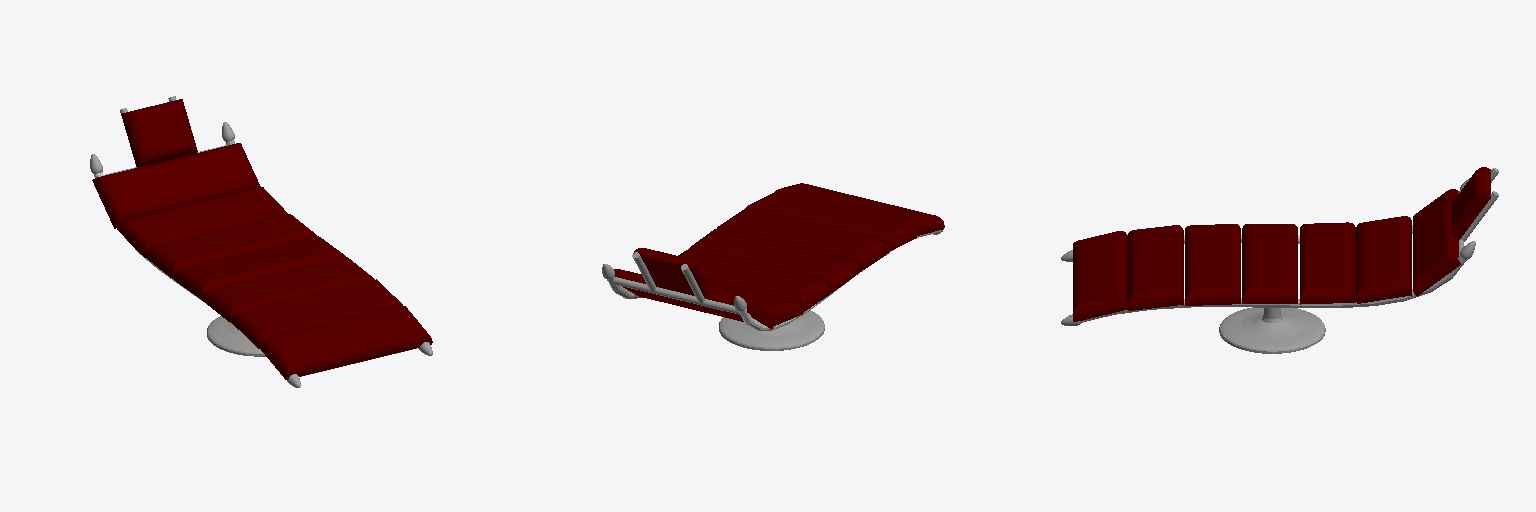
Rendered from lederliege.obj.
3 views of the same model, side by side, from view 1: azimuth 30°, elevation 25°; view 2: azimuth 150°, elevation 25°; view 3: azimuth 270°, elevation 25° (orthographic).
Visible parts, largest first — view 1: Kissen_Cube.003, foot_Circle, deko_egg_Sphere.003; view 2: Kissen_Cube.003, foot_Circle, metal_Cylinder.005; view 3: Kissen_Cube.003, foot_Circle, BezierCurve.
Part boxes in pixels (left/top/right/bottom): Kissen_Cube.003: left=92, top=99, right=432, bottom=379; foot_Circle: left=207, top=316, right=265, bottom=356; deko_egg_Sphere.003: left=90, top=122, right=432, bottom=387; Kissen_Cube.003: left=614, top=183, right=944, bottom=328; foot_Circle: left=719, top=310, right=824, bottom=350; metal_Cylinder.005: left=612, top=252, right=740, bottom=314; Kissen_Cube.003: left=1073, top=167, right=1490, bottom=321; foot_Circle: left=1219, top=307, right=1325, bottom=353; BezierCurve: left=1080, top=255, right=1466, bottom=322.
Size of the model in its own units: 2.23 by 2.2 by 5.78.